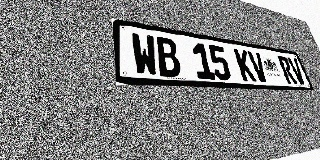1: (190, 42, 216, 80)
5: (208, 44, 232, 80)
B: (154, 36, 182, 78)
K: (233, 49, 257, 82)
R: (277, 55, 298, 84)
V: (247, 51, 270, 82), (287, 57, 307, 84)
W: (130, 32, 159, 76)
